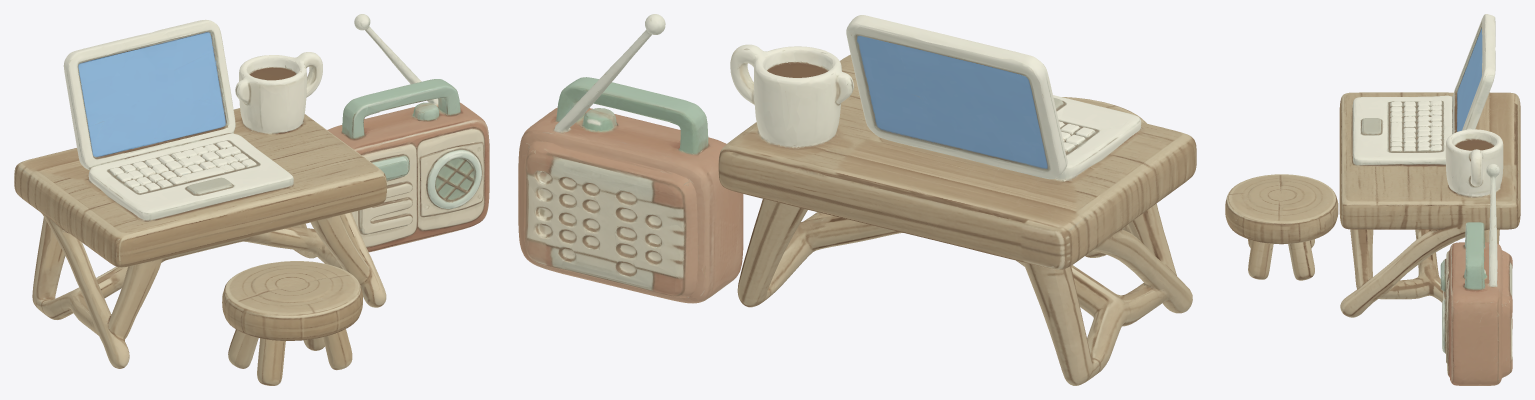
The model's file is folding-laptop-radio-workstation-smooth-cartoon-v1.glb.
3 views of the same model, side by side, from view 1: azimuth 30°, elevation 25°; view 2: azimuth 150°, elevation 25°; view 3: azimuth 270°, elevation 25° (orthographic). The views are drawn at different scales.
Parts seen in each view (by area): view 1: folding-laptop-radio-workstation-flat-source-v4; view 2: folding-laptop-radio-workstation-flat-source-v4; view 3: folding-laptop-radio-workstation-flat-source-v4.
Part boxes in pixels (left/top/right/bottom): folding-laptop-radio-workstation-flat-source-v4: left=14, top=14, right=489, bottom=385; folding-laptop-radio-workstation-flat-source-v4: left=518, top=14, right=1196, bottom=385; folding-laptop-radio-workstation-flat-source-v4: left=1225, top=14, right=1520, bottom=385.
Size of the model in its own units: 1.9 by 1.04 by 1.3.
Materials: 1 (1 with a texture image).
